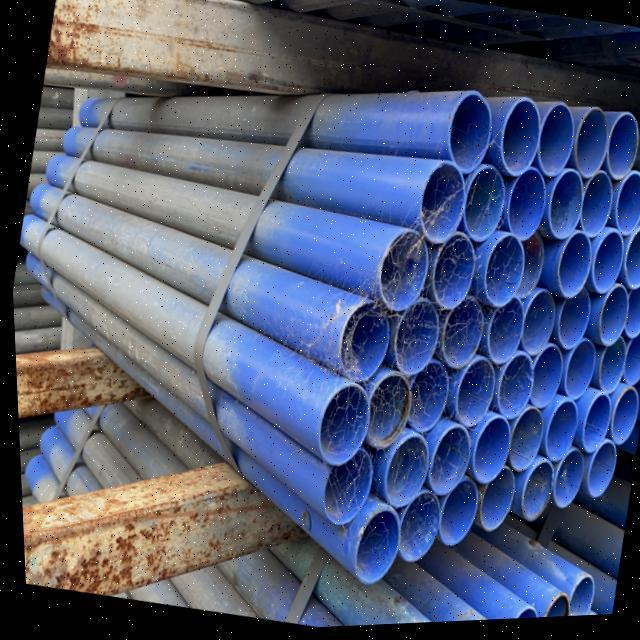pipe: (312, 383, 367, 471), (374, 235, 430, 319), (316, 451, 371, 530), (495, 102, 544, 184), (418, 168, 468, 248), (394, 487, 441, 571), (374, 438, 427, 512), (390, 302, 439, 381), (446, 96, 490, 182), (458, 170, 507, 247), (497, 173, 545, 250), (363, 376, 410, 453), (335, 308, 385, 380), (430, 235, 475, 314), (347, 514, 395, 587), (434, 474, 477, 555), (480, 233, 525, 310), (401, 362, 447, 437), (438, 302, 483, 378), (424, 430, 470, 501), (450, 363, 495, 433), (591, 270, 628, 355), (548, 283, 590, 356), (537, 108, 576, 186), (467, 419, 509, 490), (470, 467, 511, 539), (482, 301, 524, 370), (490, 358, 532, 426), (551, 235, 592, 303), (576, 175, 615, 246), (546, 175, 584, 246), (602, 119, 639, 188), (575, 112, 610, 183), (538, 403, 578, 465), (512, 463, 551, 525), (506, 412, 540, 483), (517, 293, 553, 360), (546, 454, 582, 516), (572, 400, 608, 461), (607, 177, 640, 242), (591, 236, 625, 299), (558, 342, 594, 400), (527, 350, 559, 415), (605, 386, 636, 452), (579, 446, 611, 504), (593, 341, 626, 396), (519, 236, 542, 298), (561, 578, 590, 621), (620, 289, 640, 346), (623, 234, 640, 294), (621, 343, 640, 388), (537, 599, 565, 622)
